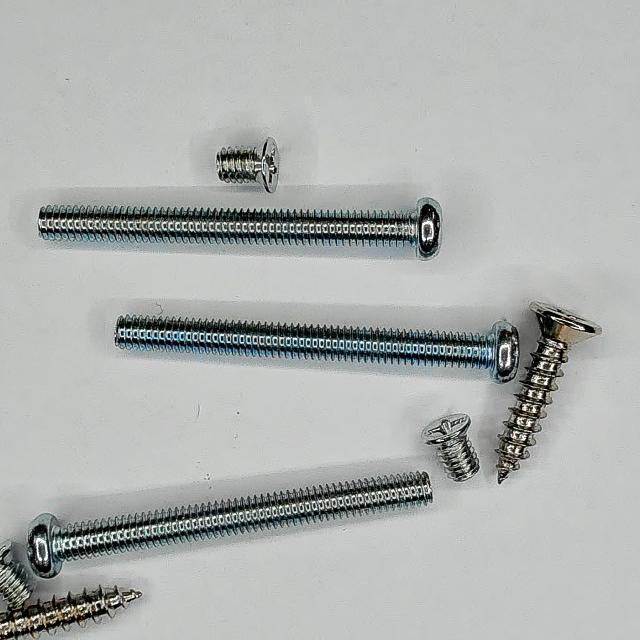Screw: (26, 473, 434, 580), (114, 315, 520, 382), (37, 197, 443, 259), (497, 302, 603, 484), (0, 587, 142, 640), (423, 414, 480, 482), (217, 137, 279, 192), (0, 542, 31, 611)
